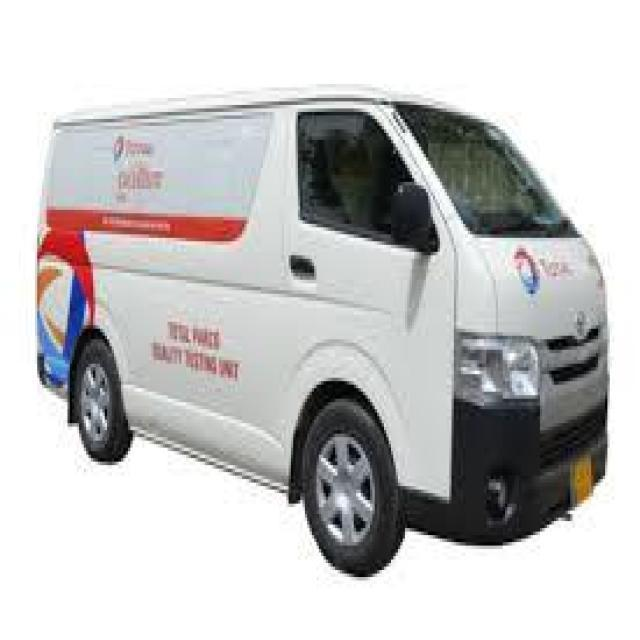van: (34, 58, 640, 562)
